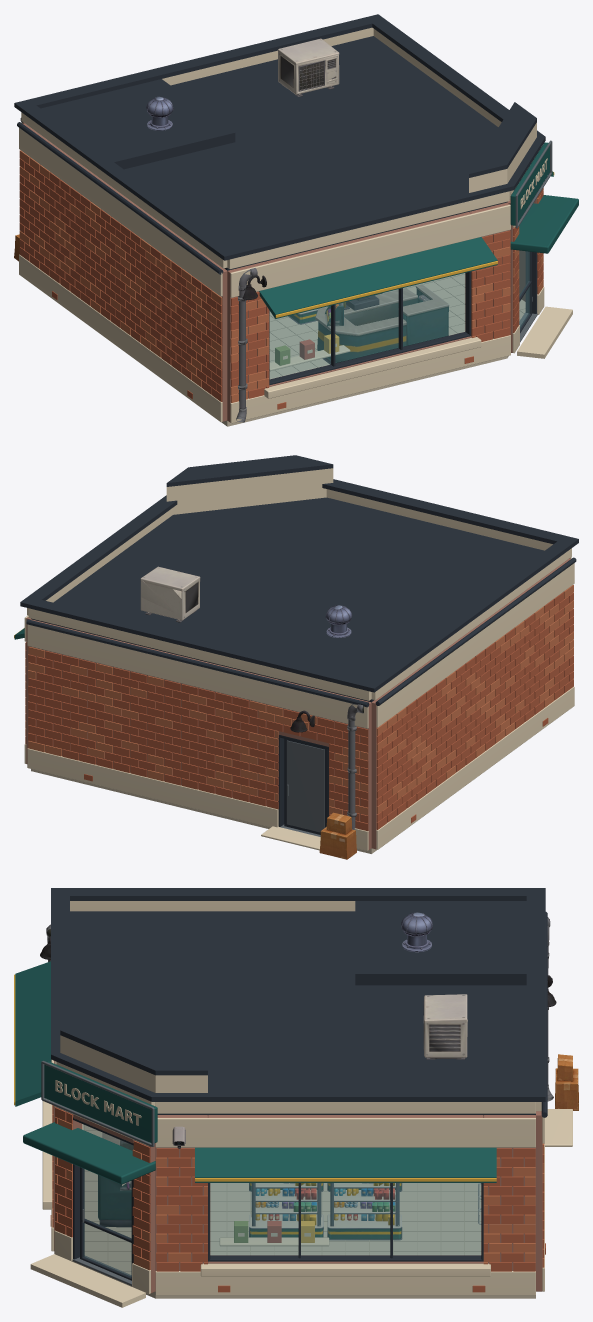
The model's file is block-mart.glb.
The picture shows the model from 3 angles, top to bottom: view 1: azimuth 30°, elevation 25°; view 2: azimuth 150°, elevation 25°; view 3: azimuth 270°, elevation 25°; orthographic projection. The views are drawn at different scales.
Visible parts, largest first — view 1: roof-navy, shell-cream, brick-detail-brick, glass-shop-glass, shell-teal, brick-detail-brick-warm, roof-cream, interior-meshy-checkout-counter, shell-brick-base, interior-floor, shell-navy, roof-meshy-roof-ac (+5 smaller); view 2: roof-navy, brick-detail-brick, shell-cream, brick-detail-brick-warm, roof-cream, shell-brick-base, inset steel panel, roof-meshy-roof-ac, interior-meshy-stock-boxes, utility-meshy-rain-downpipe, shell-navy, interior-floor (+2 smaller); view 3: roof-navy, shell-cream, shell-teal, glass-shop-glass, interior-floor, brick-detail-brick, roof-cream, interior-meshy-retail-shelf, shell-brick-base, door glass, brick-detail-brick-warm, shell-navy (+7 smaller).
Part boxes in pixels (x1=…): roof-navy: x1=14, y1=14, x2=545, y2=274; shell-cream: x1=19, y1=122, x2=572, y2=423; brick-detail-brick: x1=19, y1=158, x2=543, y2=401; glass-shop-glass: x1=270, y1=273, x2=464, y2=378; shell-teal: x1=259, y1=142, x2=578, y2=318; brick-detail-brick-warm: x1=19, y1=150, x2=543, y2=402; roof-cream: x1=21, y1=27, x2=536, y2=269; interior-meshy-checkout-counter: x1=315, y1=284, x2=449, y2=364; shell-brick-base: x1=22, y1=122, x2=537, y2=422; interior-floor: x1=221, y1=273, x2=525, y2=426; shell-navy: x1=269, y1=251, x2=537, y2=385; roof-meshy-roof-ac: x1=278, y1=38, x2=339, y2=96; roof-navy: x1=20, y1=455, x2=578, y2=707; brick-detail-brick: x1=25, y1=592, x2=573, y2=831; shell-cream: x1=24, y1=557, x2=574, y2=850; brick-detail-brick-warm: x1=25, y1=585, x2=573, y2=815; roof-cream: x1=27, y1=468, x2=571, y2=700; shell-brick-base: x1=26, y1=558, x2=570, y2=849; inset steel panel: x1=286, y1=740, x2=324, y2=832; roof-meshy-roof-ac: x1=140, y1=566, x2=200, y2=622; interior-meshy-stock-boxes: x1=319, y1=812, x2=356, y2=859; utility-meshy-rain-downpipe: x1=347, y1=704, x2=363, y2=829; shell-navy: x1=278, y1=735, x2=329, y2=826; interior-floor: x1=31, y1=769, x2=377, y2=853; roof-navy: x1=51, y1=888, x2=547, y2=1117; shell-cream: x1=30, y1=1059, x2=572, y2=1307; shell-teal: x1=15, y1=961, x2=496, y2=1184; glass-shop-glass: x1=83, y1=1124, x2=480, y2=1254; interior-floor: x1=72, y1=1124, x2=535, y2=1298; brick-detail-brick: x1=52, y1=1105, x2=544, y2=1271; roof-cream: x1=54, y1=901, x2=541, y2=1113; interior-meshy-retail-shelf: x1=249, y1=1183, x2=402, y2=1240; shell-brick-base: x1=53, y1=1060, x2=542, y2=1293; door glass: x1=83, y1=1169, x2=131, y2=1276; brick-detail-brick-warm: x1=52, y1=1118, x2=544, y2=1270; shell-navy: x1=72, y1=1117, x2=483, y2=1263.
Size of the model in its own units: 11.22 by 5.39 by 11.88.
23 materials, 9 textured.
